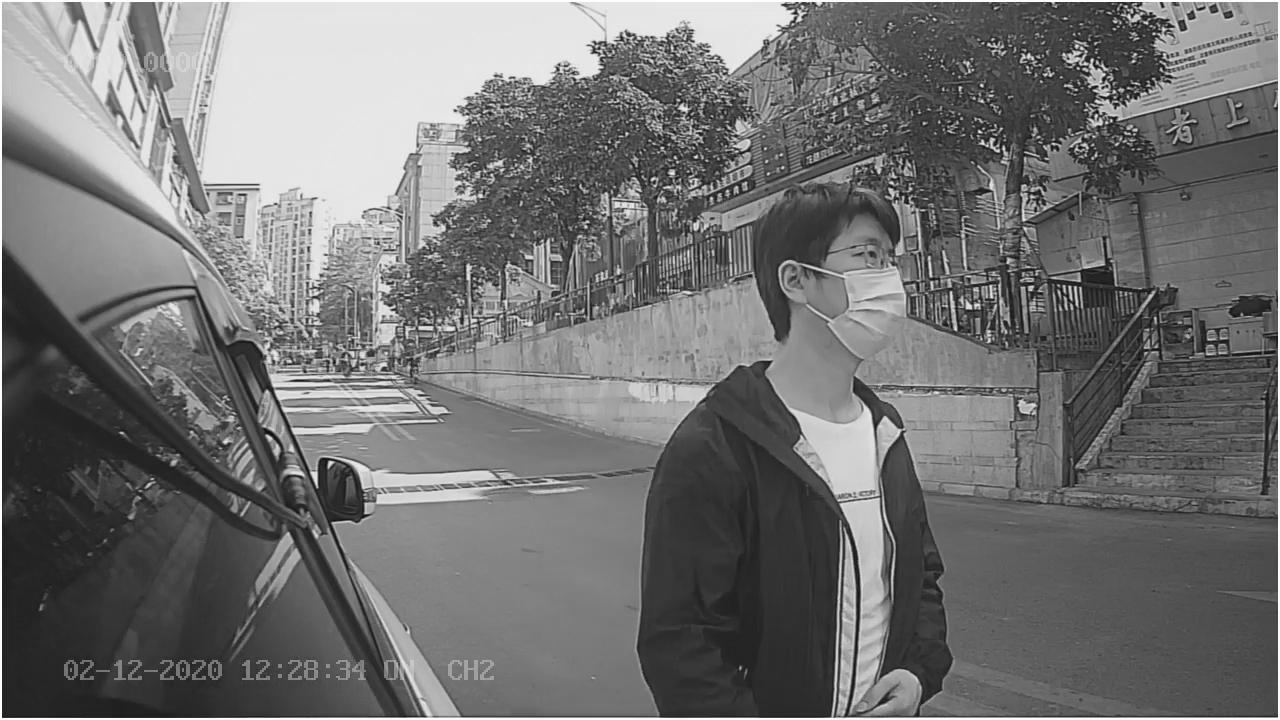person: (623, 162, 957, 629)
